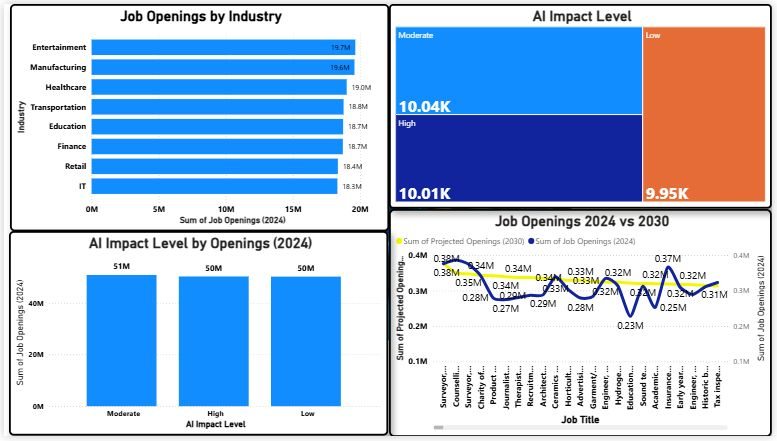

What the dashboard file says about the page in this screenshot:
{"tool":"powerbi","page":{"name":"Page 2","canvas":[1280,720],"ordinal":1},"visuals":[{"type":"barChart","title":"Job Openings by Industry","fields":{"Category":["AI Impact on Job Market (2024–2030).Industry"],"Y":["Sum(AI Impact on Job Market (2024–2030).Job Openings (2024))"]},"box":[9.2,0,631.7,379.4],"z":0},{"type":"lineChart","title":"Job Openings 2024 vs 2030","fields":{"Category":["AI Impact on Job Market (2024–2030).Job Title"],"Y2":["Sum(AI Impact on Job Market (2024–2030).Job Openings (2024))"],"Y":["Sum(AI Impact on Job Market (2024–2030).Projected Openings (2030))"]},"box":[641.7,341,638.3,379.6],"z":1000},{"type":"treemap","title":"AI Impact Level","fields":{"Group":["AI Impact on Job Market (2024–2030).AI Impact Level"],"Values":["CountNonNull(AI Impact on Job Market (2024–2030).Job Title)"]},"box":[641.7,0,638.3,341],"z":2000},{"type":"columnChart","title":"AI Impact Level by Openings (2024)","fields":{"Category":["AI Impact on Job Market (2024–2030).AI Impact Level"],"Y":["Sum(AI Impact on Job Market (2024–2030).Job Openings (2024))"]},"box":[9,379,632,341],"z":3000}]}

Visuals, with their boxes in screenshot pixels (x1, y1, x2, y2), scaled from the page's 1280x720 canvas onto the 777x441 screenshot:
"Job Openings by Industry" barChart: region(6, 0, 389, 232)
"Job Openings 2024 vs 2030" lineChart: region(390, 209, 776, 440)
"AI Impact Level" treemap: region(390, 0, 776, 209)
"AI Impact Level by Openings (2024)" columnChart: region(5, 232, 389, 440)
